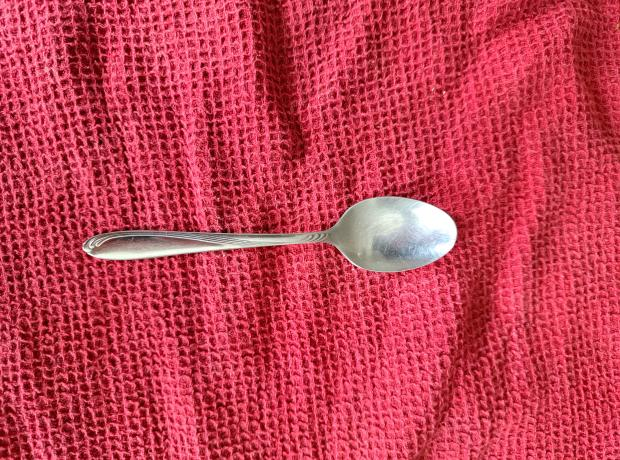metal: (75, 192, 458, 278)
